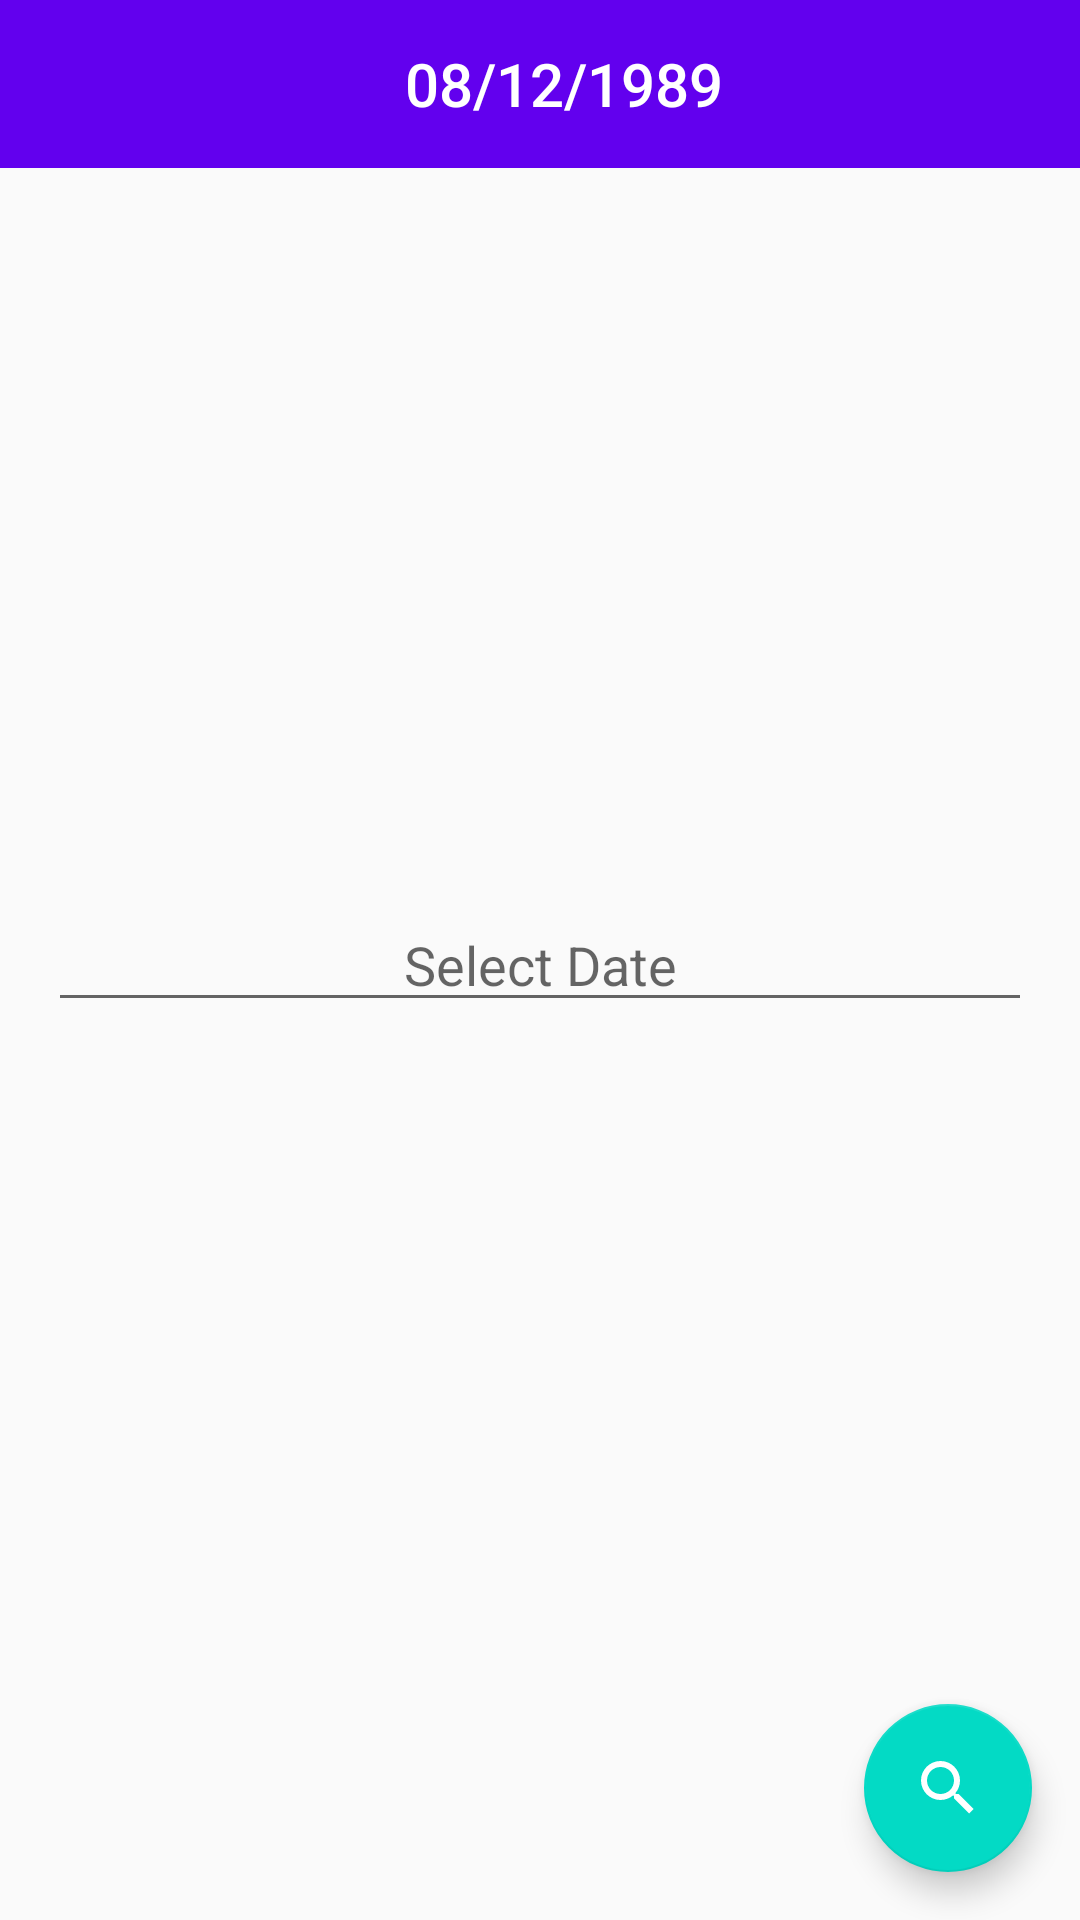

Locate icon controls on the screen. Image size 1080px×1920px, boxes as rect(x1, y1, x2, y2).
Search: rect(864, 1704, 1032, 1872)
